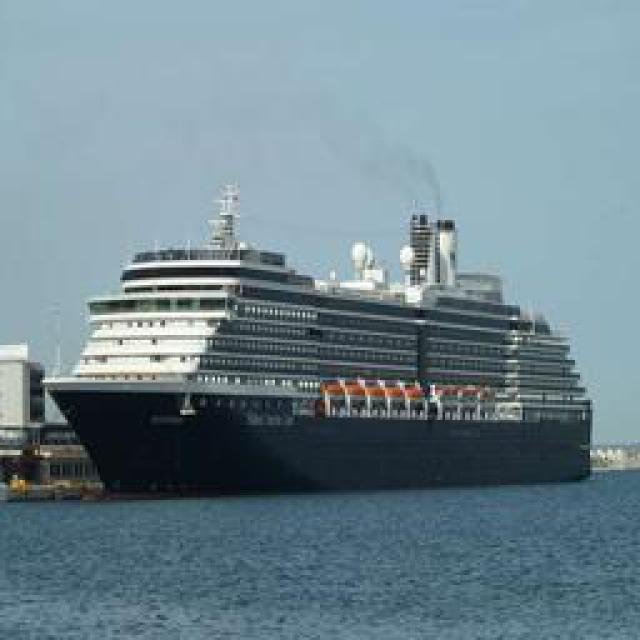Ship: (40, 180, 605, 490)
